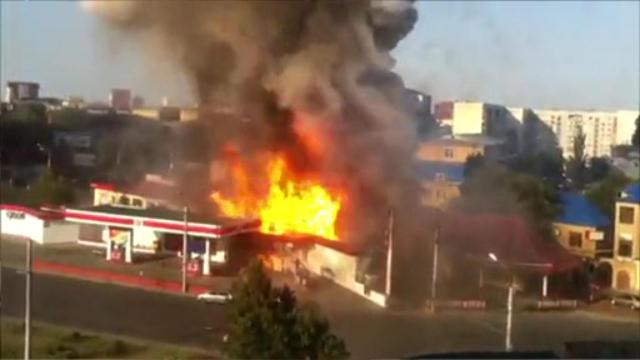fire: (260, 186, 338, 236), (213, 191, 261, 217), (266, 156, 286, 184)
